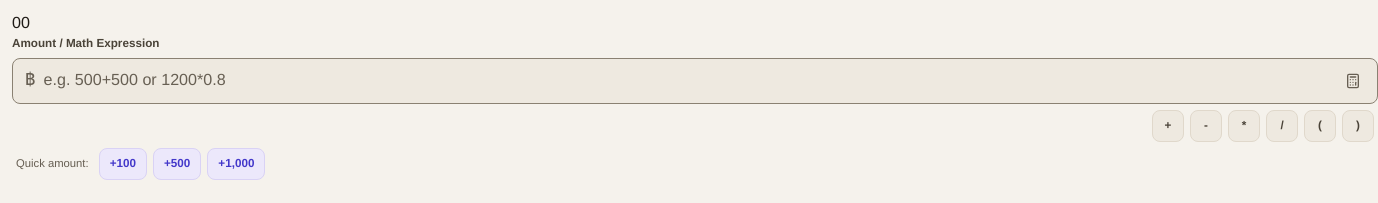
Test case: InlineMathInput: a person editing › an operator key, then a backspace, then Use result each report the new text
Step 1. Type "100" into the field with id "amt" → [688, 81], box [44, 59, 1333, 103]
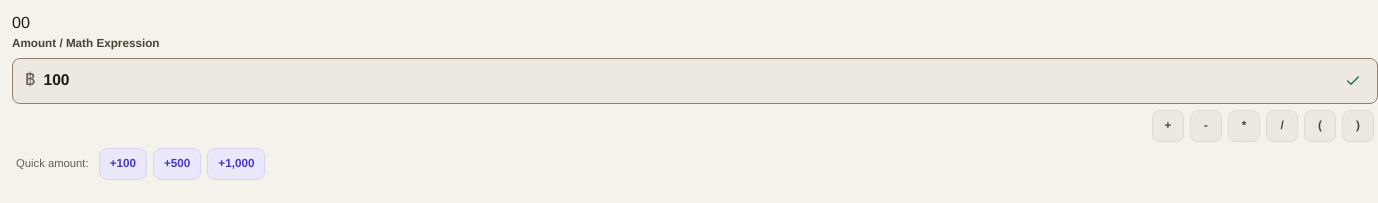
Step 2. Click the button "+" → [1168, 126], box [1152, 110, 1184, 142]
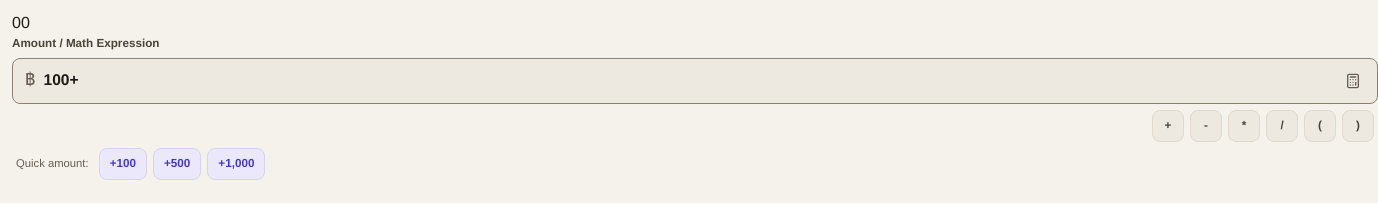
Step 3. Replace the text in the field with id "amt" with "100+20" → [688, 81], box [44, 59, 1333, 103]
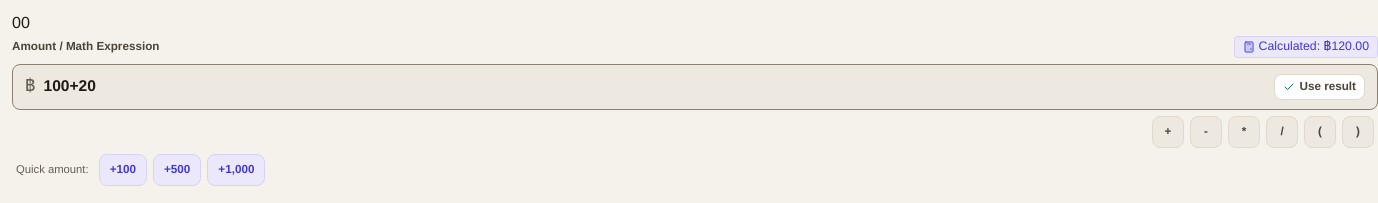
Step 4. Click the button with id "amt-apply-btn" → [1320, 87], box [1274, 65, 1365, 109]
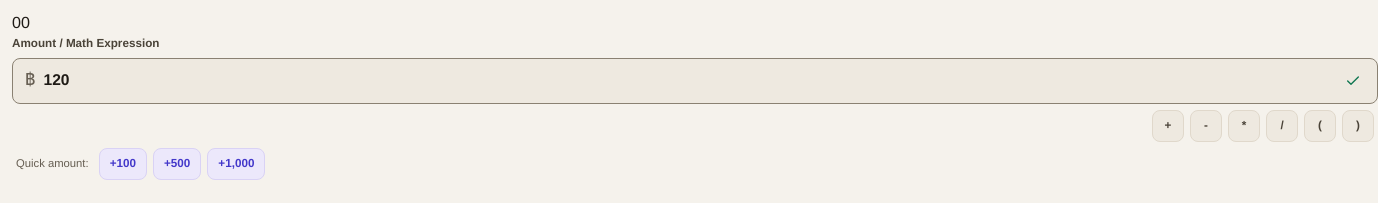
Expected: the field with id "amt" holds "120", [44, 59, 1333, 103]
Step 5. Click the button with id "amt-chip-500" → [177, 164], box [153, 148, 201, 180]
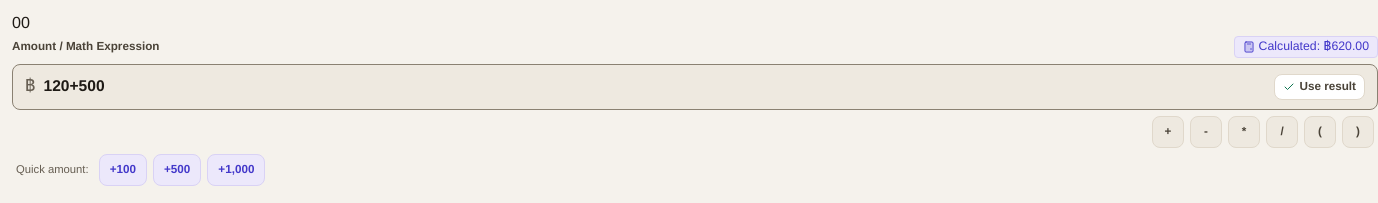
Expected: the field with id "amt" holds "120+500", [44, 65, 1266, 109]
